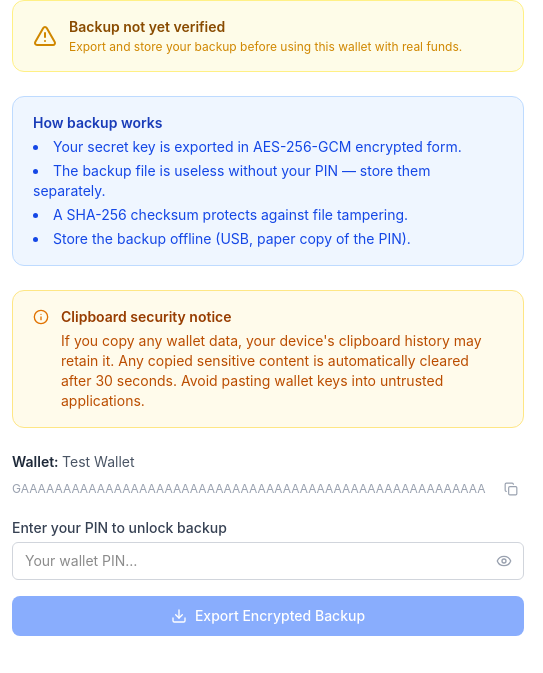
Test case: WalletBackup – clipboard security › shows an error message when clipboard write fails
Click the button named "copy public key": (511, 489) [498,476,524,502]
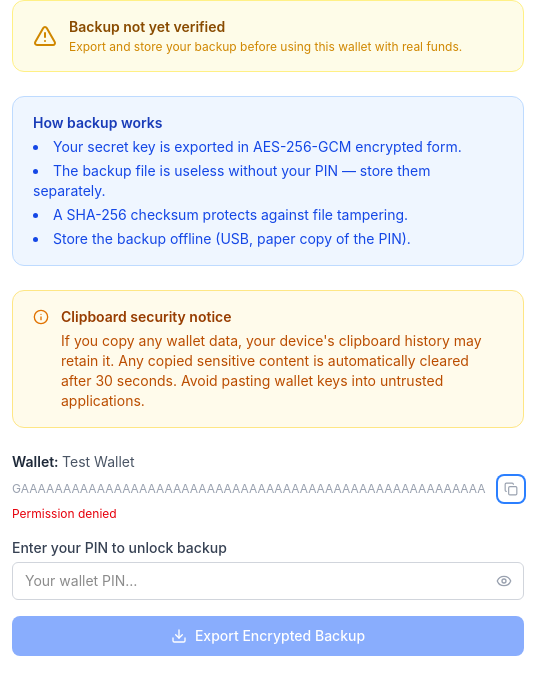
Now the text "Permission denied" is shown, box [12,506,117,521]
